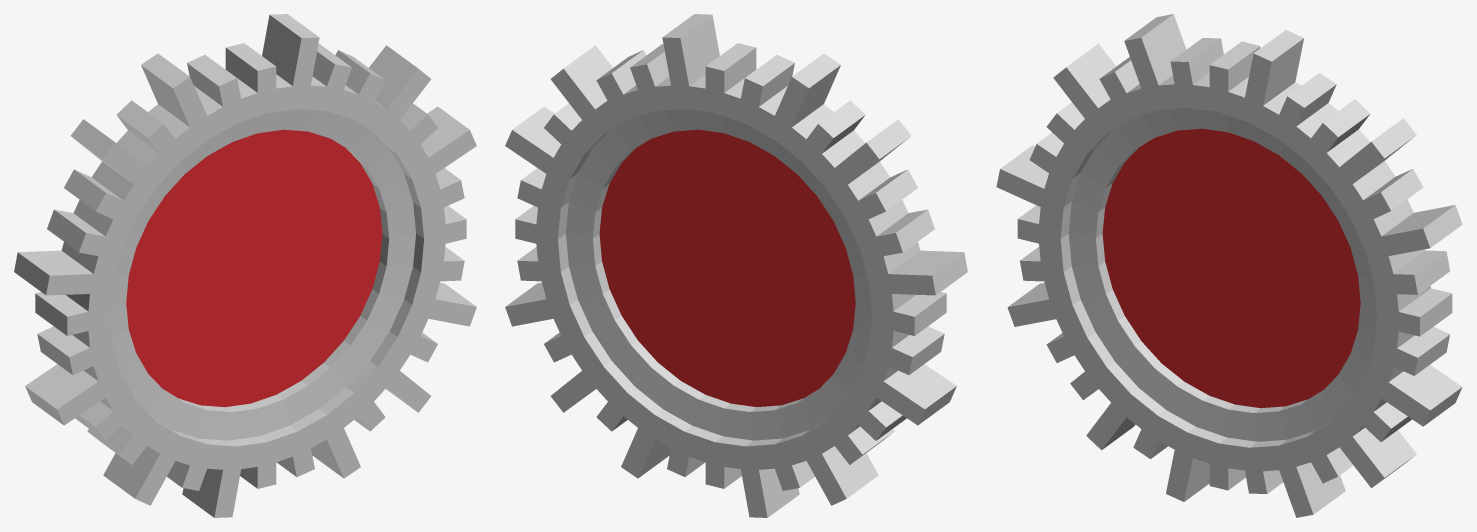
The model's file is FBX_Portail.fbx.
3 views of the same model, side by side, from view 1: azimuth 30°, elevation 25°; view 2: azimuth 150°, elevation 25°; view 3: azimuth 330°, elevation 25° (orthographic).
Visible parts, largest first — view 1: Cube.006; view 2: Cube.006; view 3: Cube.006.
Boxes of the visible parts, bbox=[...] form: Cube.006: bbox=[14, 14, 476, 517]; Cube.006: bbox=[505, 14, 967, 517]; Cube.006: bbox=[996, 14, 1462, 517].
Bounding box in the file's own units: 529 × 542 × 68.14.
